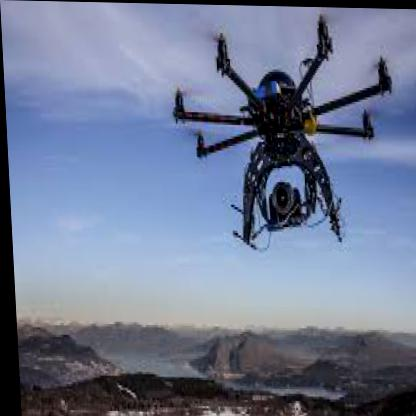UAS: (168, 9, 398, 252)
